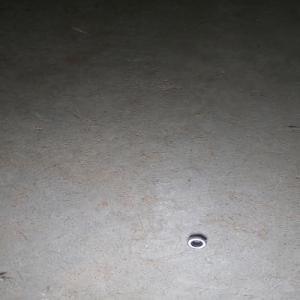Nut: (186, 235, 207, 249)
